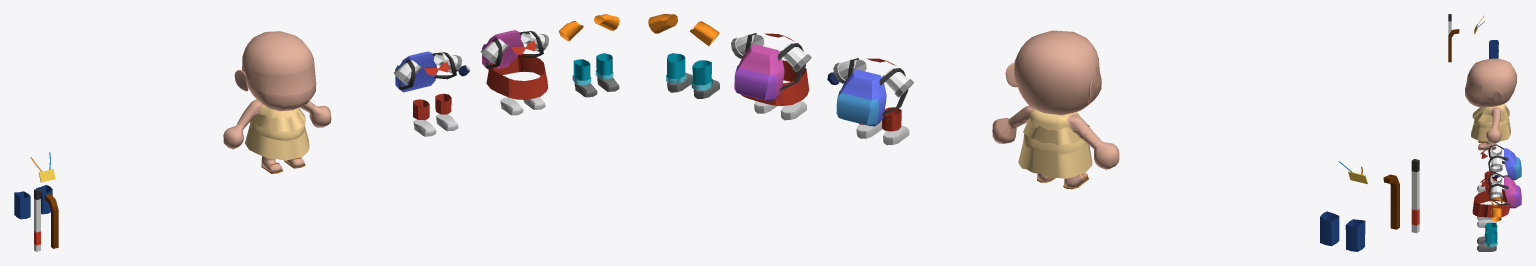
File: Playable girl.fbx
3 views of the same model, side by side, from view 1: azimuth 30°, elevation 25°; view 2: azimuth 150°, elevation 25°; view 3: azimuth 270°, elevation 25° (orthographic). The views are drawn at different scales.
Visible parts, largest first — view 1: polySurface4, skirt, polySurface3, skirt1, pCube2, skirt2, pCube9, walking_stick, pCube15, pCube20, white_cane, pCube16; view 2: polySurface4, pCube2, pCube9, skirt1, skirt, pCylinder5 (×2), skirt2, white_cane, pCube21, pCube20, pCube15, walking_stick (+2 smaller); view 3: polySurface4, skirt, pCube9, pCube2, skirt1, pCylinder4 (×2), skirt2, pCube11 (×2), polySurface3, pCube16, walking_stick, pCylinder5 (×2) (+13 smaller).
Boxes of the visible parts, x1,y1,x2,y2 form: polySurface4: (223, 31, 331, 172); skirt: (486, 54, 548, 99); polySurface3: (250, 61, 315, 95); skirt1: (245, 125, 309, 160); pCube2: (395, 51, 436, 92); skirt2: (251, 108, 305, 132); pCube9: (482, 30, 523, 69); walking_stick: (45, 194, 58, 248); pCube15: (572, 59, 591, 85); pCube20: (14, 191, 30, 219); white_cane: (34, 188, 40, 251); pCube16: (595, 53, 613, 79); polySurface4: (992, 30, 1119, 187); pCube2: (836, 69, 886, 126); pCube9: (734, 44, 784, 101); skirt1: (1018, 142, 1092, 178); skirt: (741, 60, 809, 106); pCylinder5 (×2): (779, 42, 913, 97); skirt2: (1023, 118, 1089, 145); white_cane: (1411, 159, 1419, 233); pCube21: (1320, 211, 1339, 246); pCube20: (1345, 219, 1365, 251); pCube15: (691, 60, 712, 90); walking_stick: (1383, 174, 1399, 229); polySurface4: (1465, 58, 1517, 149); skirt: (1472, 190, 1509, 217); pCube9: (1504, 176, 1521, 208); pCube2: (1504, 148, 1521, 180); skirt1: (1471, 120, 1510, 141); pCylinder4 (×2): (1490, 155, 1502, 200); skirt2: (1472, 105, 1509, 122); pCube11 (×2): (1488, 155, 1510, 205); polySurface3: (1465, 76, 1482, 97); pCube16: (1484, 230, 1497, 246); walking_stick: (1448, 29, 1459, 62); pCylinder5 (×2): (1490, 145, 1502, 183).
Bounding box in the file's own units: 24.41 × 4.73 × 3.78.
